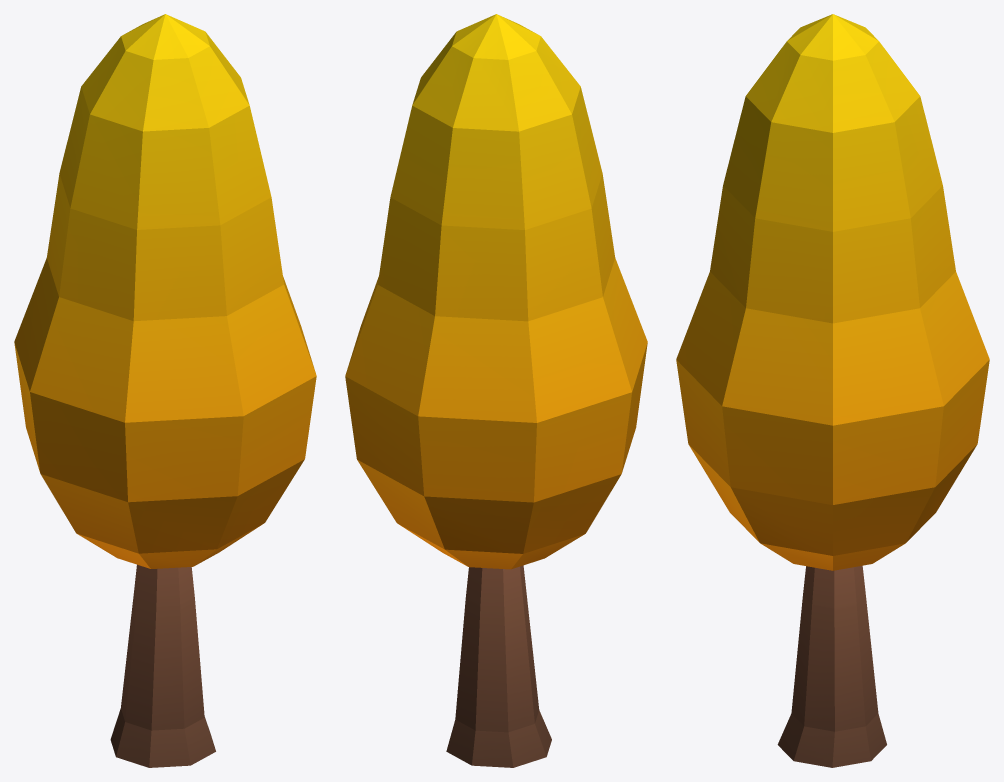
File: autumn tree 14.fbx
The picture shows the model from 3 angles, left to right: view 1: azimuth 30°, elevation 25°; view 2: azimuth 150°, elevation 25°; view 3: azimuth 270°, elevation 25°; orthographic projection.
Visible parts, largest first — view 1: autumn tree 14; view 2: autumn tree 14; view 3: autumn tree 14.
Boxes of the visible parts, bbox=[...] form: autumn tree 14: bbox=[14, 14, 316, 767]; autumn tree 14: bbox=[345, 14, 647, 767]; autumn tree 14: bbox=[676, 14, 989, 767].
Size of the model in its own units: 279 by 719 by 279.
